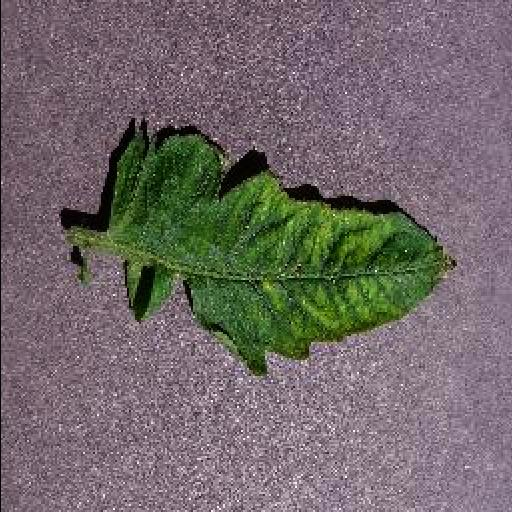Mosaic Virus: (105, 122, 459, 378)
